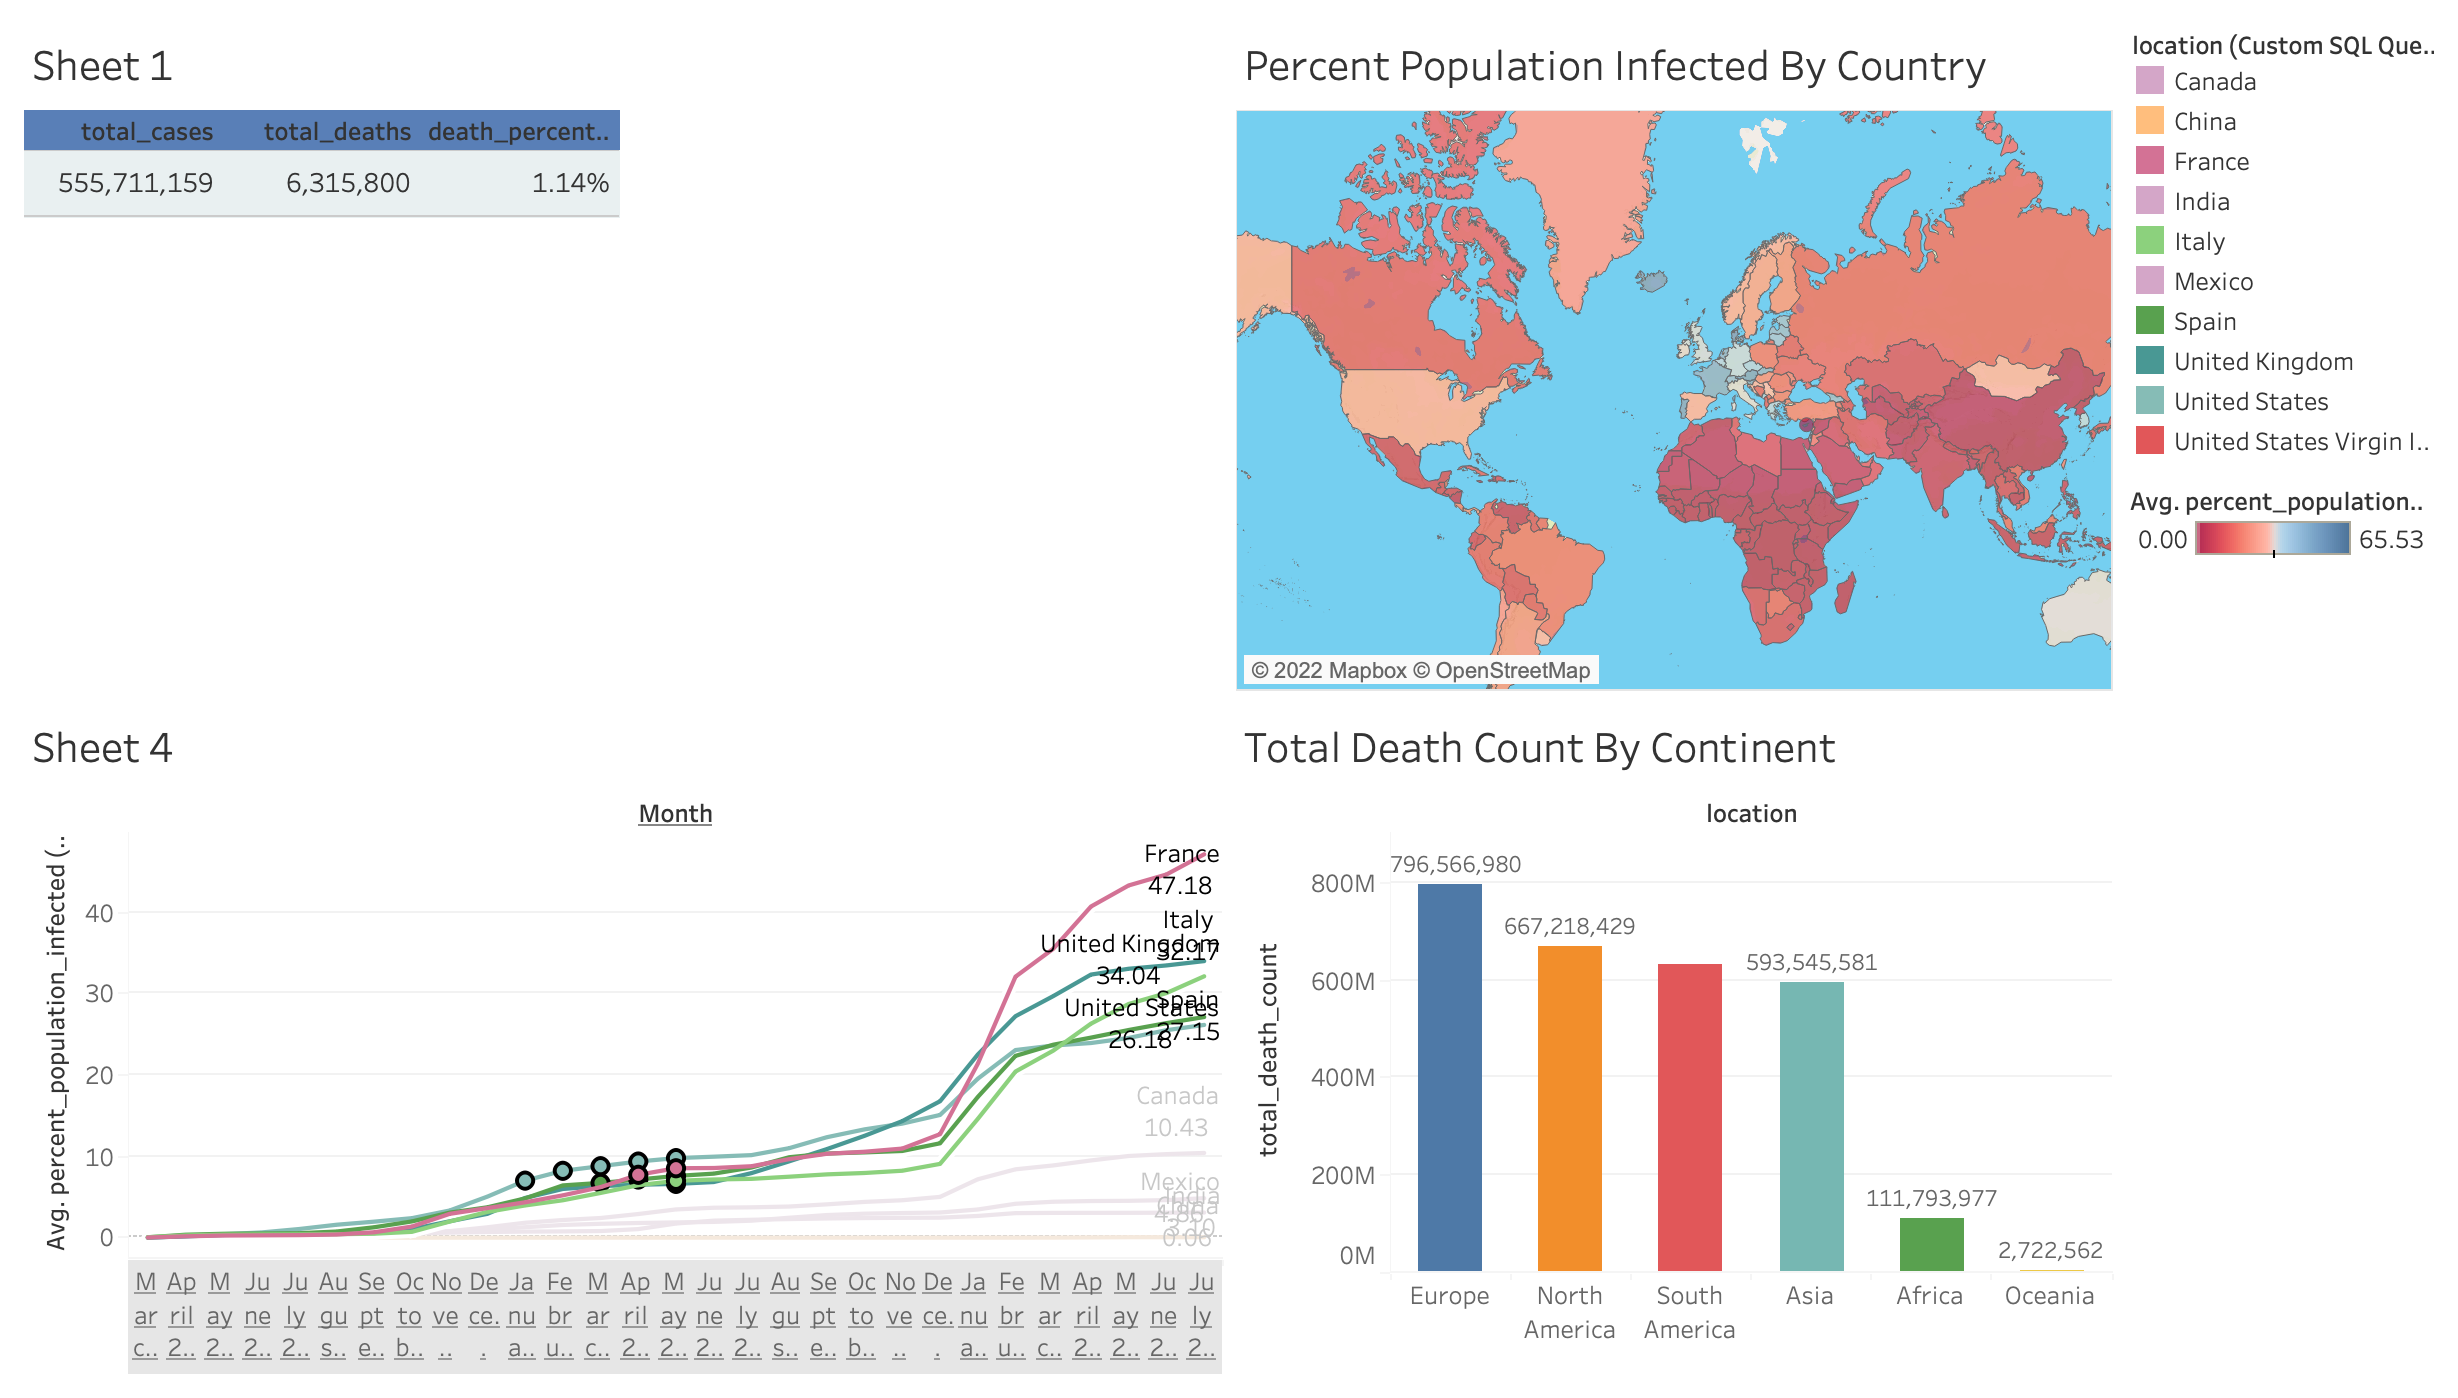

The dashboard page shown, as its layout file describes it:
{"tool":"tableau","page":{"name":"Dashboard 1","canvas":[1000,1000],"units":"permille","ordinal":0},"visuals":[{"type":"worksheet","title":"Sheet 2","mark":"Automatic","rows":["total_death_count"],"cols":["location"],"box":[9.5,13.7,774,252]},{"type":"legend","title":"Sheet 3","param":"[federated.1qr7b8e0f50ph51dsgpx80t5gp3i].[avg:percent_population_infected:qk]","box":[783.4,13.7,207.1,252]},{"type":"worksheet","title":"Sheet 1","mark":"Automatic","box":[9.5,265.8,421.8,290.5]},{"type":"worksheet","title":"Sheet 3","mark":"Automatic","box":[431.3,265.8,559.2,290.5]},{"type":"legend","title":"Sheet 4","param":"[federated.1qr7b8e0f50ph51dsgpx80t5gp3i].[none:location (Custom SQL Query3):nk]","box":[9.5,556.2,150.4,430]},{"type":"worksheet","title":"Sheet 4","mark":"Automatic","rows":["percent_population_infected (Custom SQL Query3)"],"cols":["date_"],"box":[159.9,556.2,830.6,430]}]}

Visuals, with their boxes on the dashboard's canvas, which has no fixed pixel size, in thousandths of its width and height (x1, y1, x2, y2). These are canvas units, not pixel positions in the 2458x1398 screenshot, which may show the page scaled, cropped or inside an application window:
"Sheet 2" worksheet: detection(10, 14, 784, 266)
"Sheet 3" legend: detection(783, 14, 990, 266)
"Sheet 1" worksheet: detection(10, 266, 431, 556)
"Sheet 3" worksheet: detection(431, 266, 990, 556)
"Sheet 4" legend: detection(10, 556, 160, 986)
"Sheet 4" worksheet: detection(160, 556, 990, 986)
